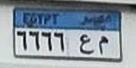6: (40, 30, 52, 53), (54, 30, 65, 55), (28, 31, 40, 53), (16, 29, 27, 51)
ain: (77, 32, 95, 56)
meem: (96, 33, 109, 55)
